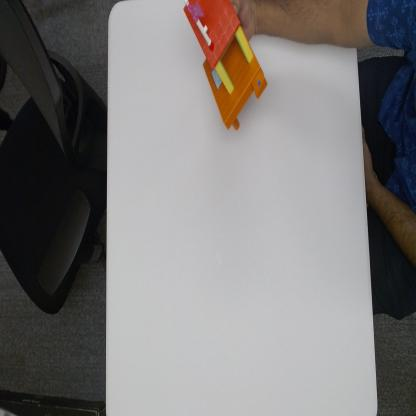Arm: (262, 0, 359, 51)
Hand: (231, 0, 258, 41)
House: (182, 0, 265, 128)
